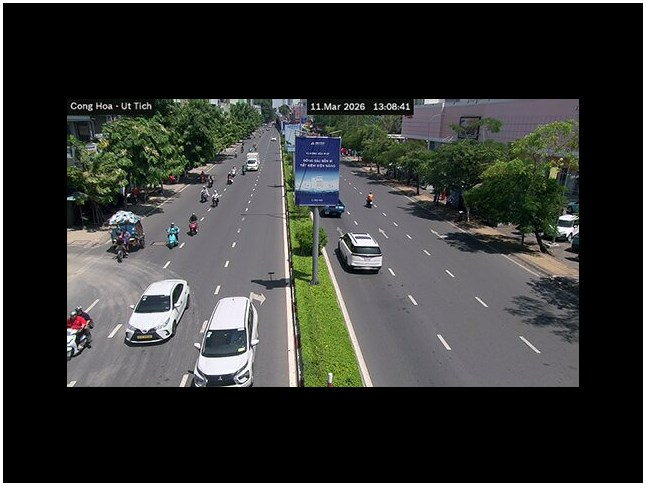car: (194, 296, 258, 386), (124, 278, 190, 345), (335, 232, 383, 274), (320, 205, 344, 218), (242, 157, 260, 172)
motorbike: (67, 313, 93, 358), (106, 240, 128, 262)
truck: (293, 132, 343, 212)
